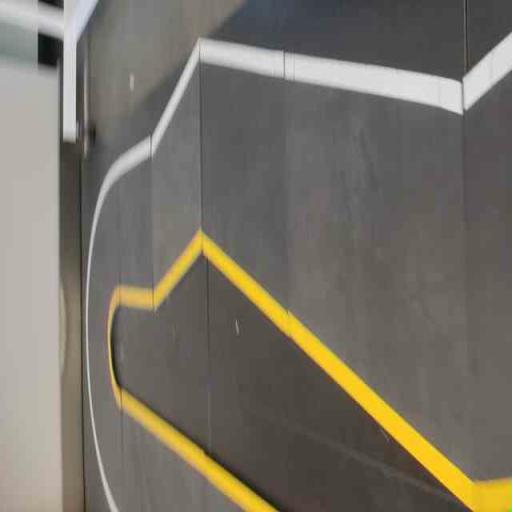crossright: (198, 28, 475, 511)
